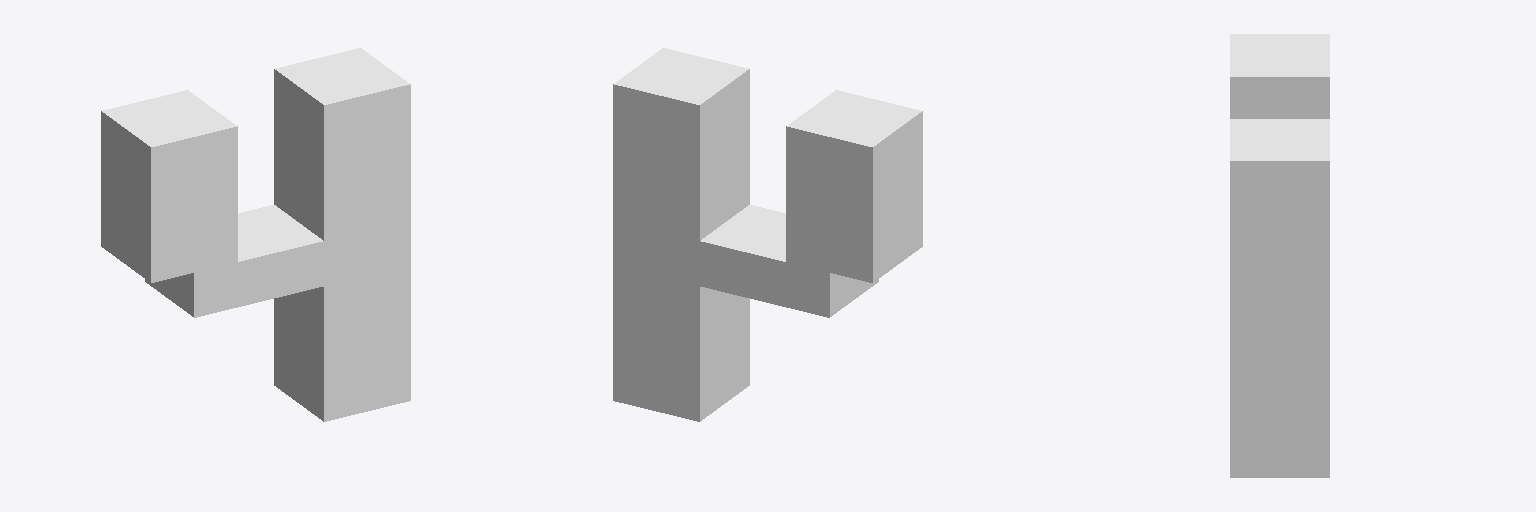
Rendered from Number4.obj.
3 renders of one model, left to right at view 1: azimuth 30°, elevation 25°; view 2: azimuth 150°, elevation 25°; view 3: azimuth 270°, elevation 25°, orthographic.
Parts seen in each view (by area): view 1: object 1; view 2: object 1; view 3: object 1.
Part boxes in pixels (left/top/right/bottom): object 1: left=101, top=48, right=410, bottom=421; object 1: left=613, top=48, right=922, bottom=421; object 1: left=1230, top=34, right=1329, bottom=477.
Size of the model in its own units: 0.6 by 0.7 by 0.2.